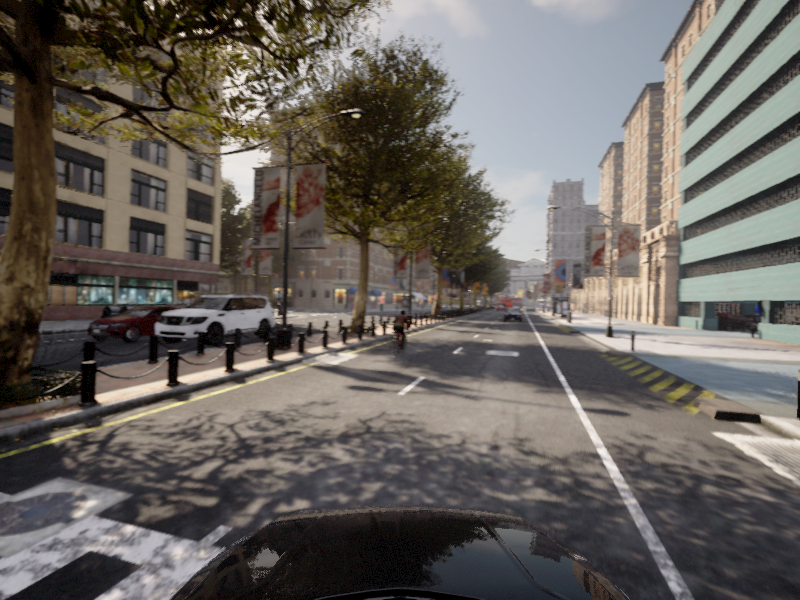vehicle: (146, 291, 280, 349), (78, 304, 207, 344), (385, 309, 415, 358), (503, 308, 522, 322)
